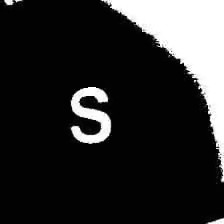LTR_S: (70, 84, 115, 144)
